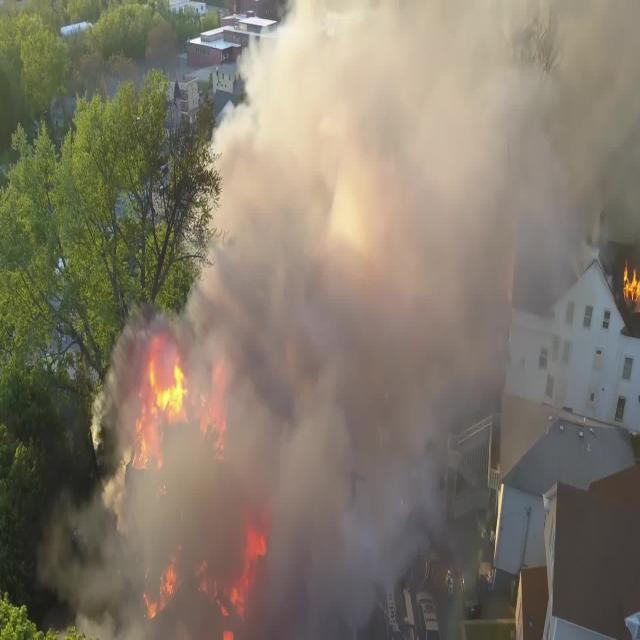Fire: (129, 344, 282, 627)
Smoke: (67, 4, 634, 640)
